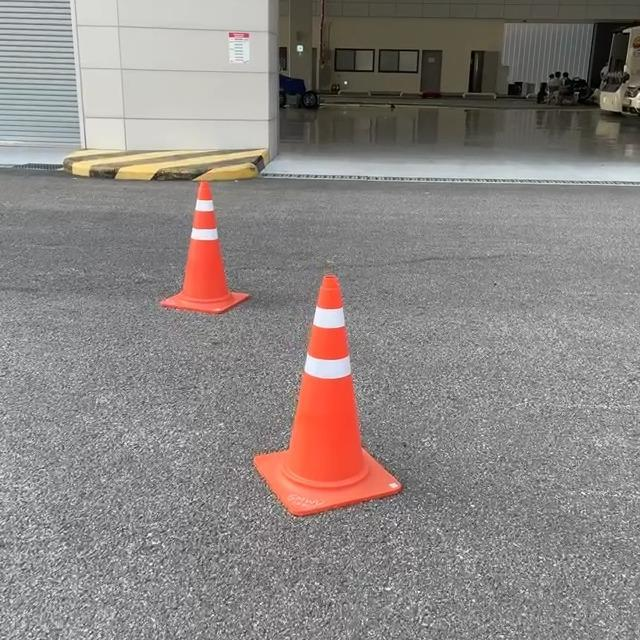fallen_object: (229, 270, 435, 571), (119, 135, 245, 359)
